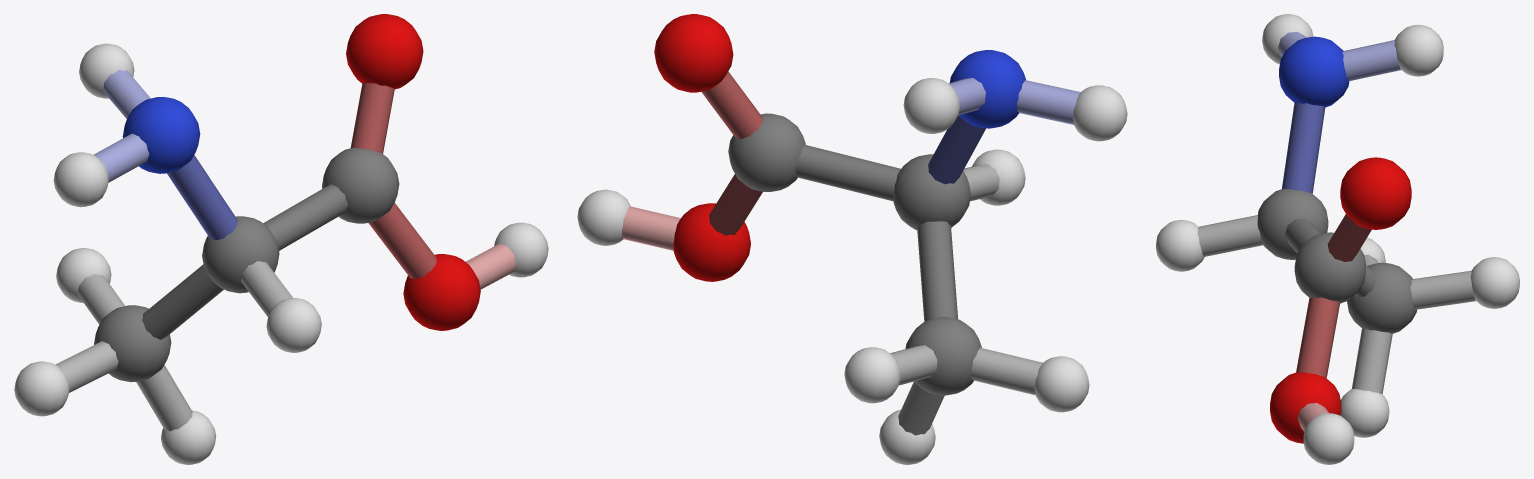
File: alanine.glb
3 views of the same model, side by side, from view 1: azimuth 30°, elevation 25°; view 2: azimuth 150°, elevation 25°; view 3: azimuth 270°, elevation 25° (orthographic). The views are drawn at different scales.
Size of the model in its own units: 0.18 by 0.1376 by 0.1181.
